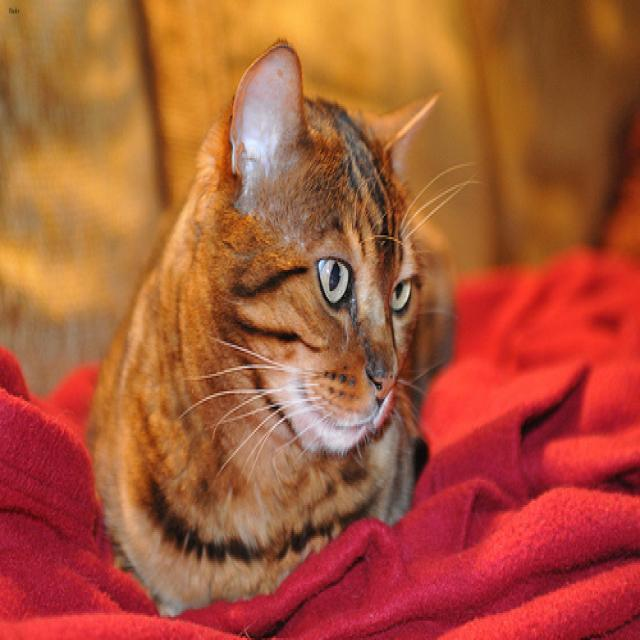Bengal: (227, 39, 439, 447)
